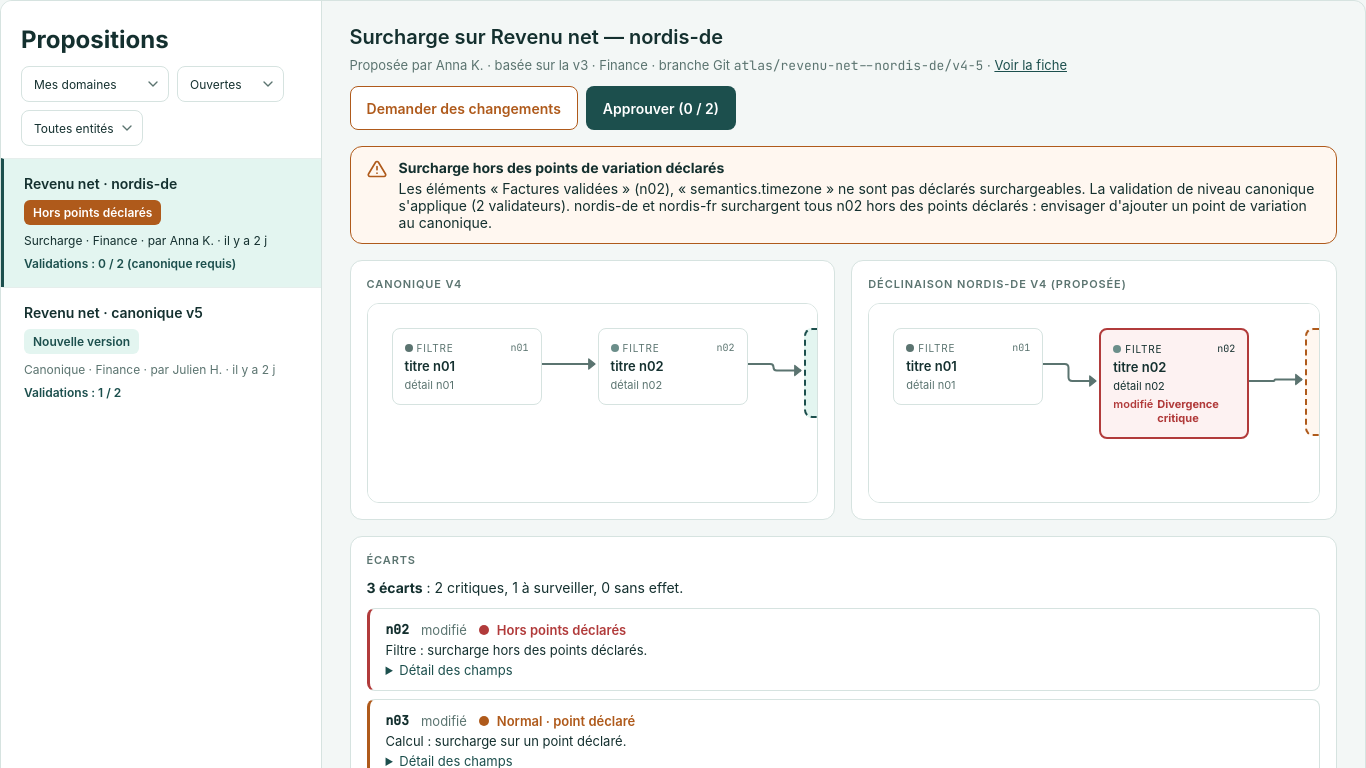
it: propositions › file : badges, compteurs et « Mes domaines » par défaut (critères 1 et 2)
Expected: the text "Revenu net · nordis-de" is shown, [24,175,177,192]
Expected: the text "Validations : 0 / 2 (canonique requis)" is shown, [24,256,236,271]
Step 1. Select "Tous les domaines" in the dropdown named "Domaine" → (95, 84), box [21,66,169,102]
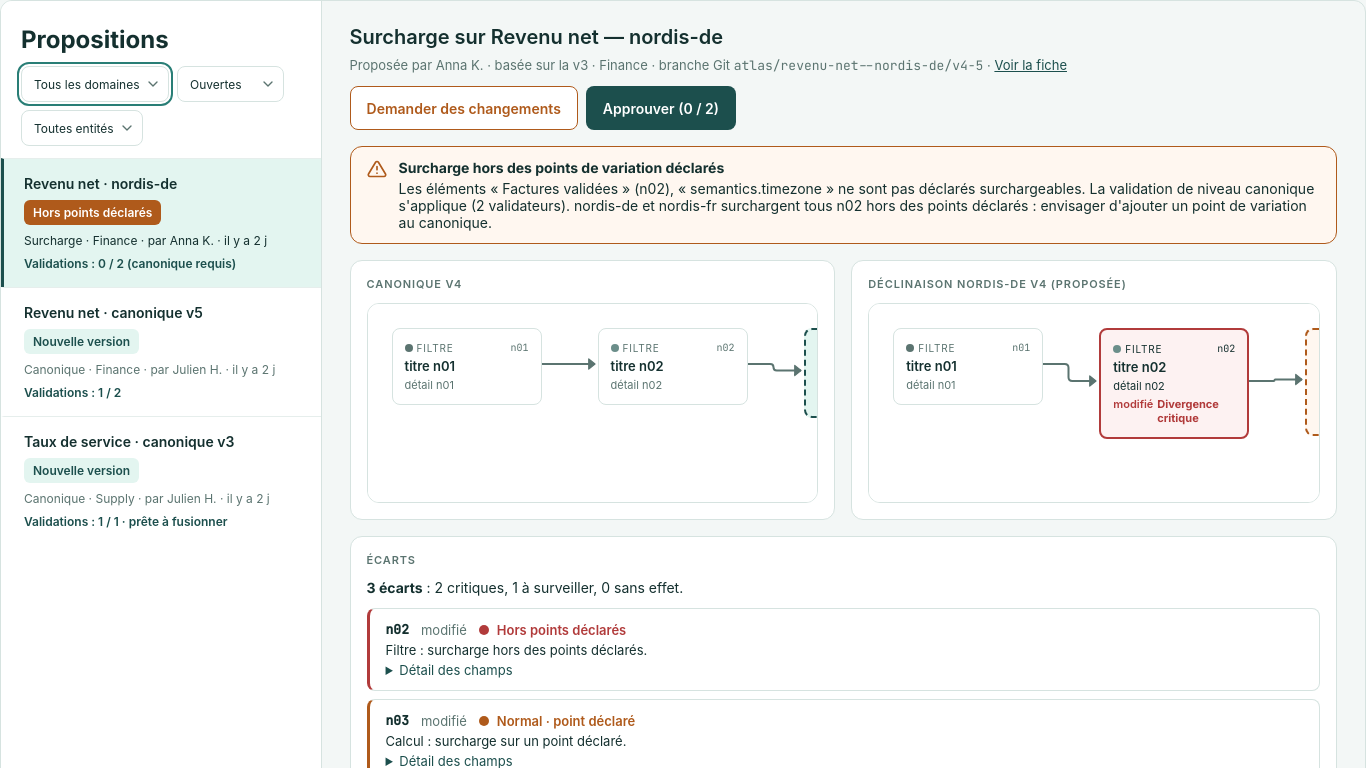
Result: the text "Validations : 1 / 1 · prête à fusionner" is shown at [24,514,228,529]
